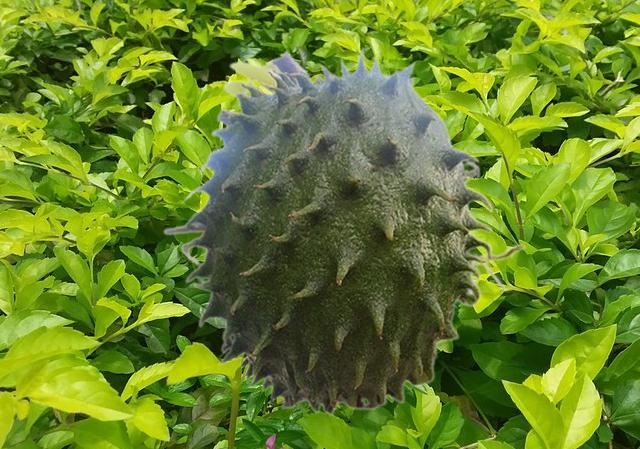guyabano: (162, 46, 526, 416)
